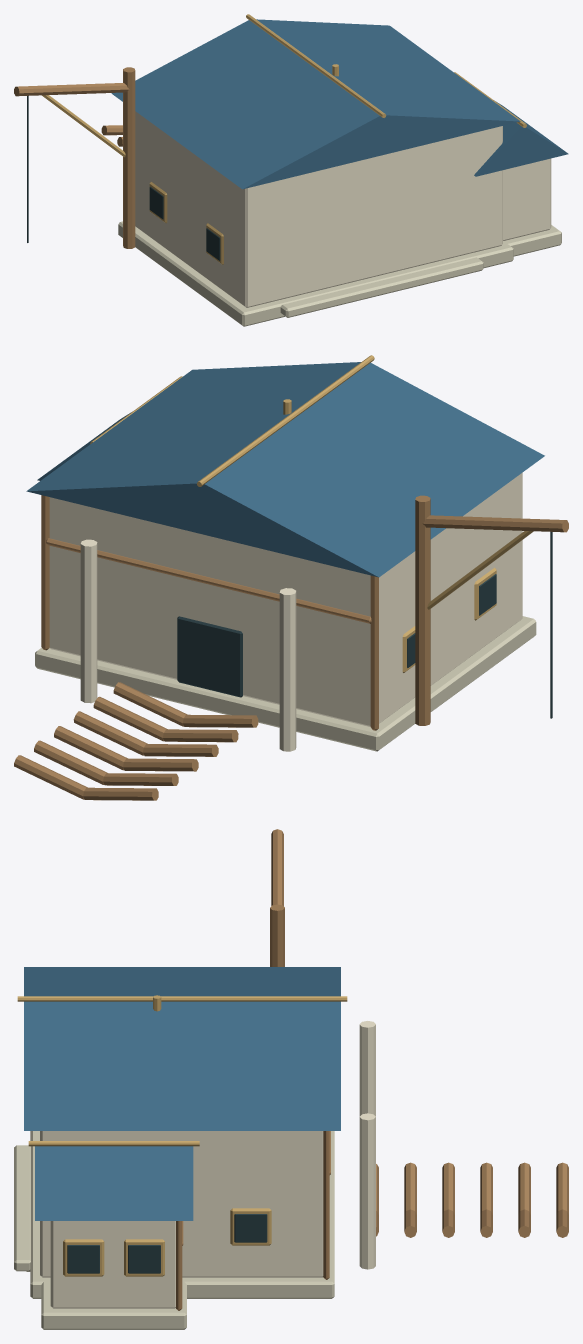
Rendered from level_24.glb.
The picture shows the model from 3 angles, top to bottom: view 1: azimuth 30°, elevation 25°; view 2: azimuth 150°, elevation 25°; view 3: azimuth 270°, elevation 25°; orthographic projection. The views are drawn at different scales.
Parts seen in each view (by area): view 1: shipyard — level 24; view 2: shipyard — level 24; view 3: shipyard — level 24.
Part boxes in pixels (left/top/right/bottom): shipyard — level 24: left=14, top=14, right=568, bottom=326; shipyard — level 24: left=14, top=355, right=568, bottom=800; shipyard — level 24: left=14, top=829, right=568, bottom=1329.
Size of the model in its own units: 9.97 by 4.16 by 8.76.
